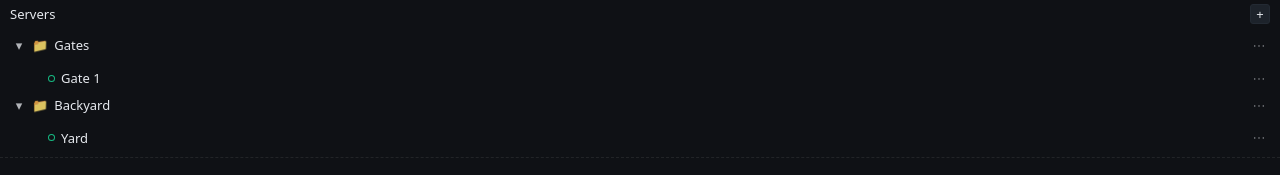
CameraTree › without a filter the handle stays active and the click closes (non-regression 3.5)
What coordinates should you click on to do the following:
click the button named "Collapse Gates"
I would click on:
 (19, 45)
Its box is [16,36,22,54].
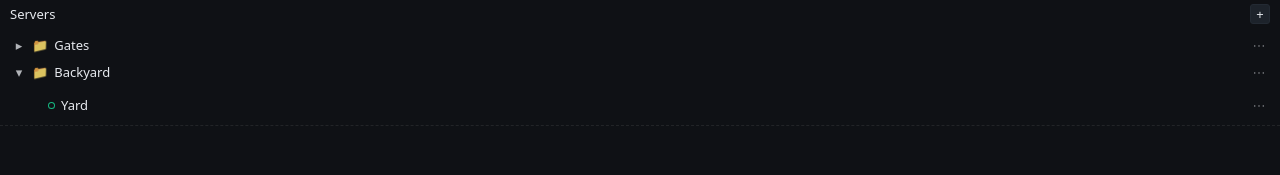
Now the button named "Expand Gates" is shown, box [16,36,22,54]
